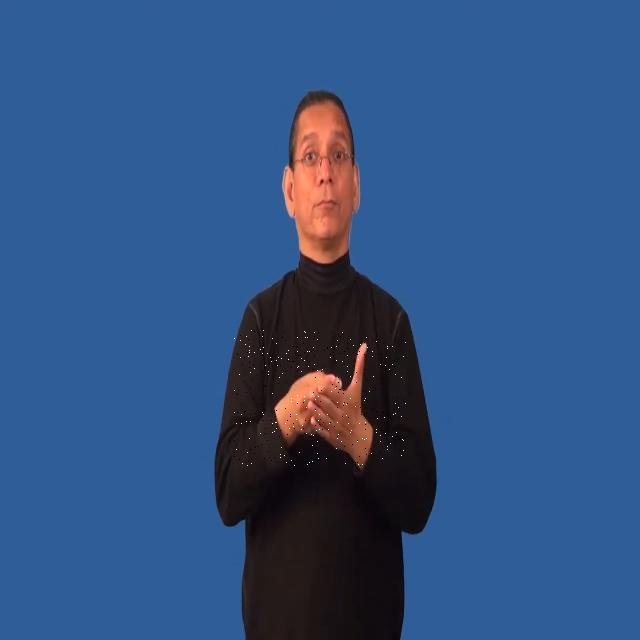coupon: (234, 330, 406, 466)
